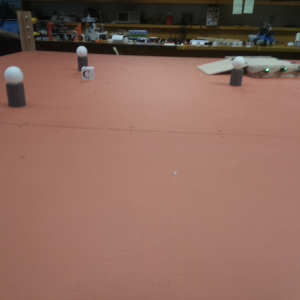blockC: (81, 67, 94, 80)
corner: (18, 14, 36, 49)
obstacle: (6, 65, 26, 106), (230, 57, 243, 85), (75, 46, 86, 69)
side: (252, 64, 300, 78)
slope: (200, 58, 234, 74)
